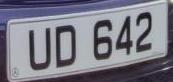2: (134, 8, 155, 58)
4: (116, 10, 136, 64)
6: (92, 13, 116, 69)
D: (52, 21, 81, 72)
U: (25, 24, 54, 74)
